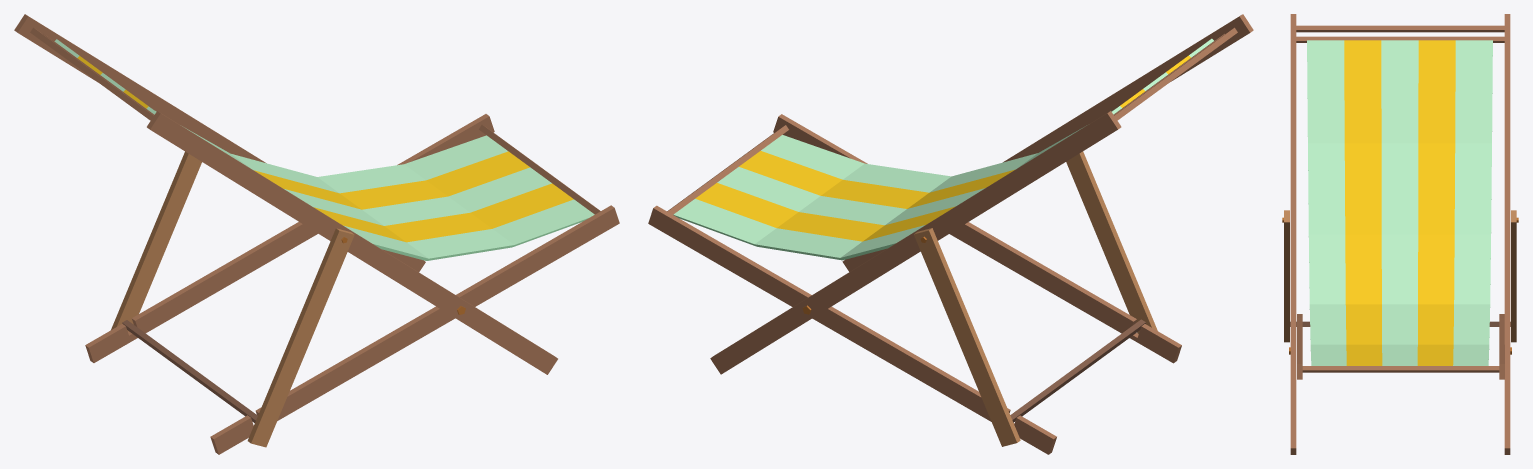
Rendered from Chair_06.glb.
3 views of the same model, side by side, from view 1: azimuth 30°, elevation 25°; view 2: azimuth 150°, elevation 25°; view 3: azimuth 270°, elevation 25° (orthographic). The views are drawn at different scales.
Visible parts, largest first — view 1: Chair_06; view 2: Chair_06; view 3: Chair_06.
Boxes of the visible parts, x1,y1,x2,y2 form: Chair_06: (14,14,619,454); Chair_06: (648,14,1253,454); Chair_06: (1282,14,1518,454).
Size of what is drawn, in the model's own units: 2.13 by 1.55 by 1.14.
Materials: 1 (1 with a texture image).
